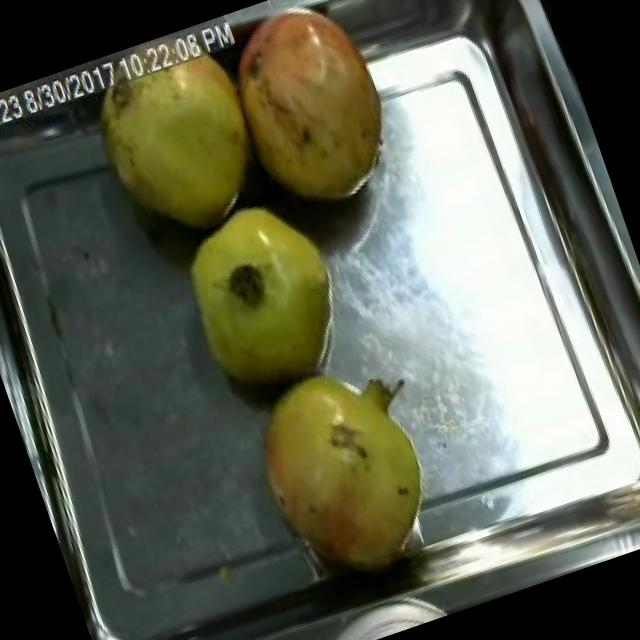fruit: (219, 330, 461, 602), (64, 21, 285, 260), (158, 185, 370, 415), (208, 0, 413, 227)
